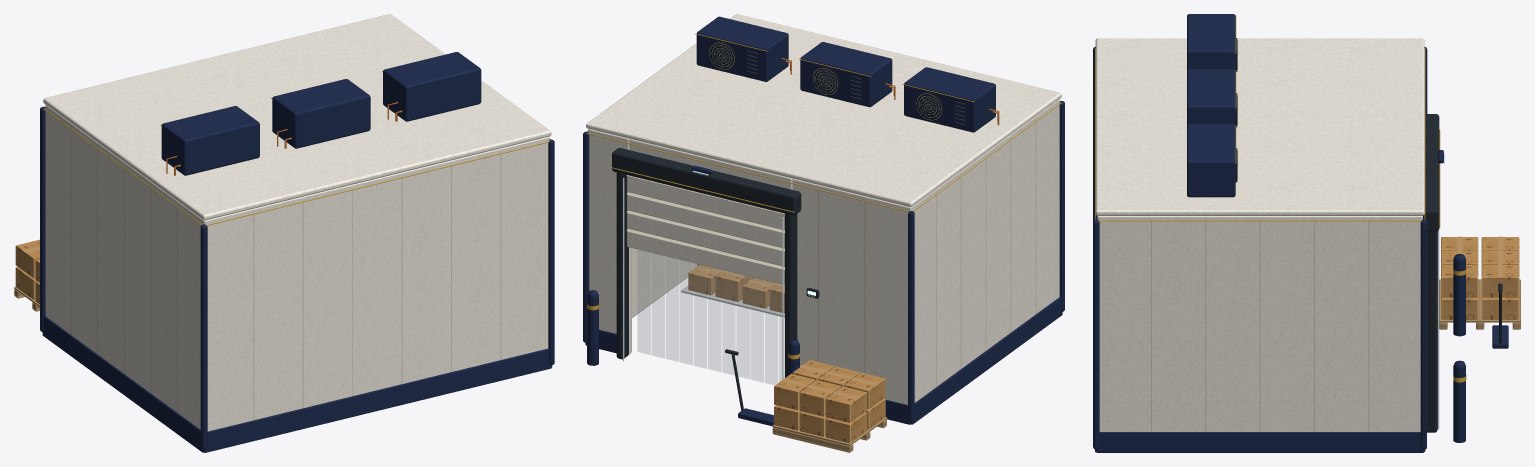
Rendered from coldroom_T4.fbx.
The picture shows the model from 3 angles, left to right: view 1: azimuth 30°, elevation 25°; view 2: azimuth 150°, elevation 25°; view 3: azimuth 270°, elevation 25°; orthographic projection. The views are drawn at different scales.
Parts seen in each view (by area): view 1: Body; view 2: Body; view 3: Body.
Part boxes in pixels (x1,y1,x2,y2): Body: (14, 14, 554, 452); Body: (583, 14, 1064, 452); Body: (1093, 14, 1520, 452).
Size of the model in its own units: 5.1 by 3.78 by 5.25.
